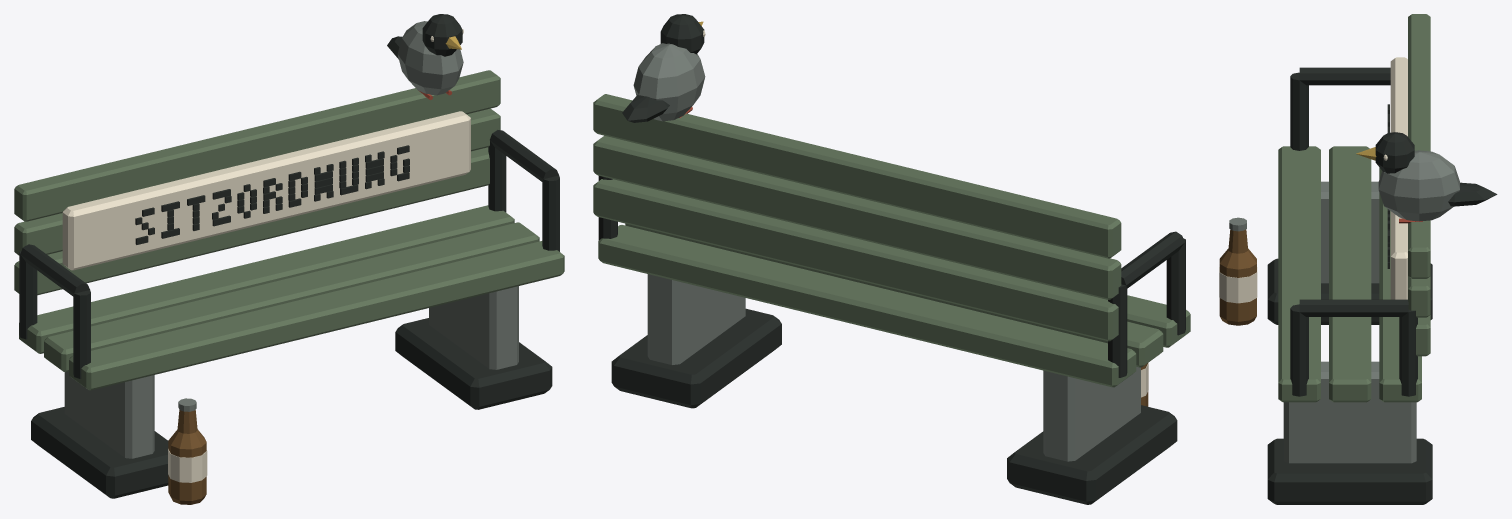
The model's file is city-bench.glb.
3 renders of one model, left to right at view 1: azimuth 30°, elevation 25°; view 2: azimuth 150°, elevation 25°; view 3: azimuth 270°, elevation 25°, orthographic. The views are drawn at different scales.
Parts seen in each view (by area): view 1: city-bench; view 2: city-bench; view 3: city-bench.
Part boxes in pixels (x1=…): city-bench: x1=14, y1=14, x2=564, y2=504; city-bench: x1=593, y1=14, x2=1190, y2=504; city-bench: x1=1219, y1=14, x2=1497, y2=504.
Bounding box in the file's own units: 2.13 × 1.45 × 1.05.
